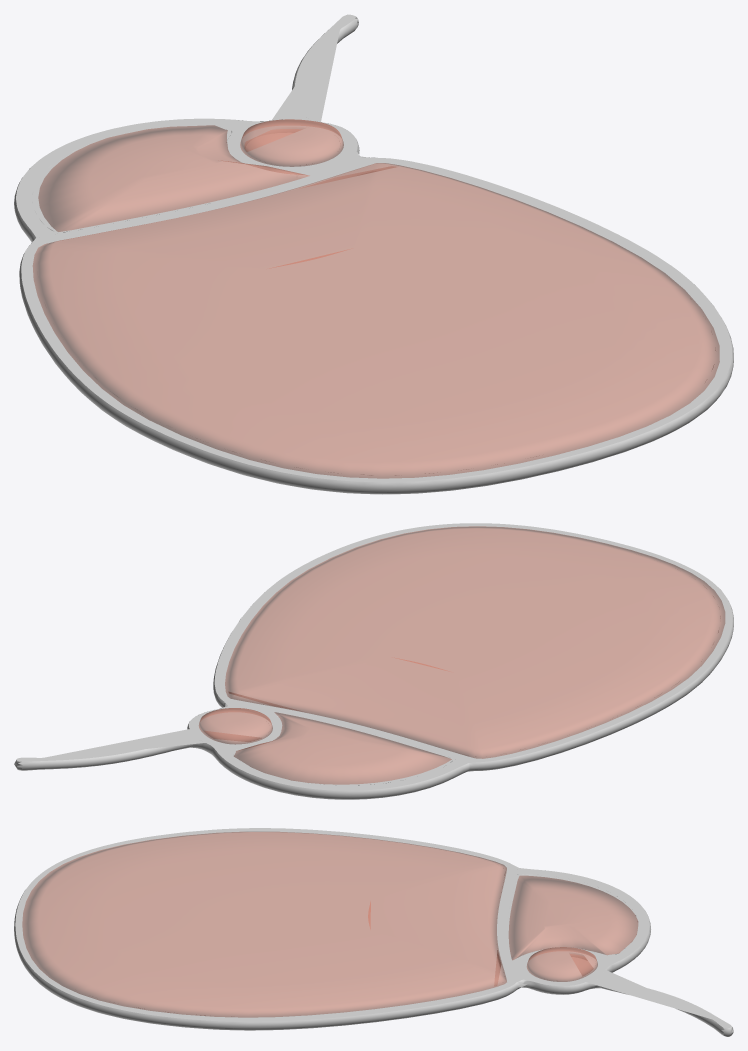
Rendered from CreamSoda.fbx.
3 views of the same model, one above another, from view 1: azimuth 30°, elevation 25°; view 2: azimuth 150°, elevation 25°; view 3: azimuth 270°, elevation 25° (orthographic). The views are drawn at different scales.
Parts seen in each view (by area): view 1: CreamSoda; view 2: CreamSoda; view 3: CreamSoda.
Part boxes in pixels (<box>): CreamSoda: <box>14,14,733,494</box>; CreamSoda: <box>14,523,733,799</box>; CreamSoda: <box>14,828,733,1036</box>.
Bounding box in the file's own units: 0.1687 × 0.0143 × 0.2548.
